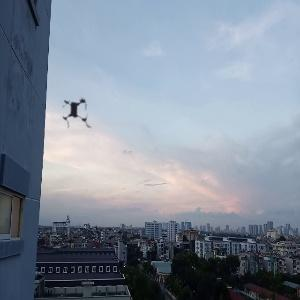drone: (40, 78, 109, 147)
